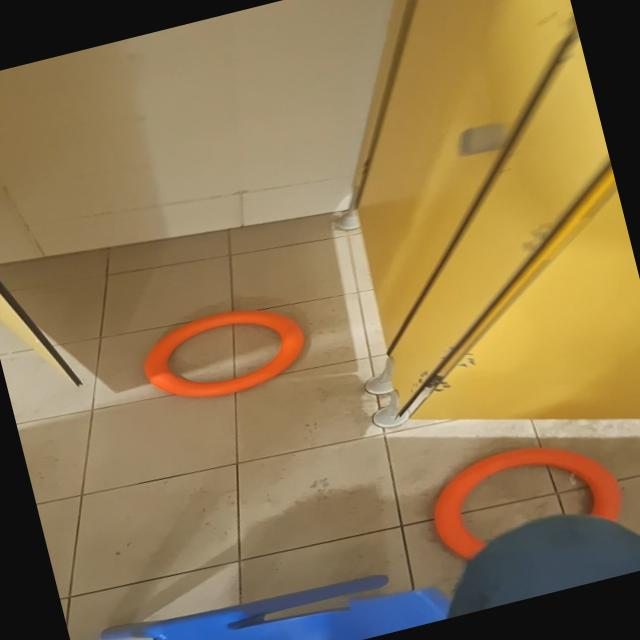note: (419, 426, 629, 566), (133, 293, 314, 413)
